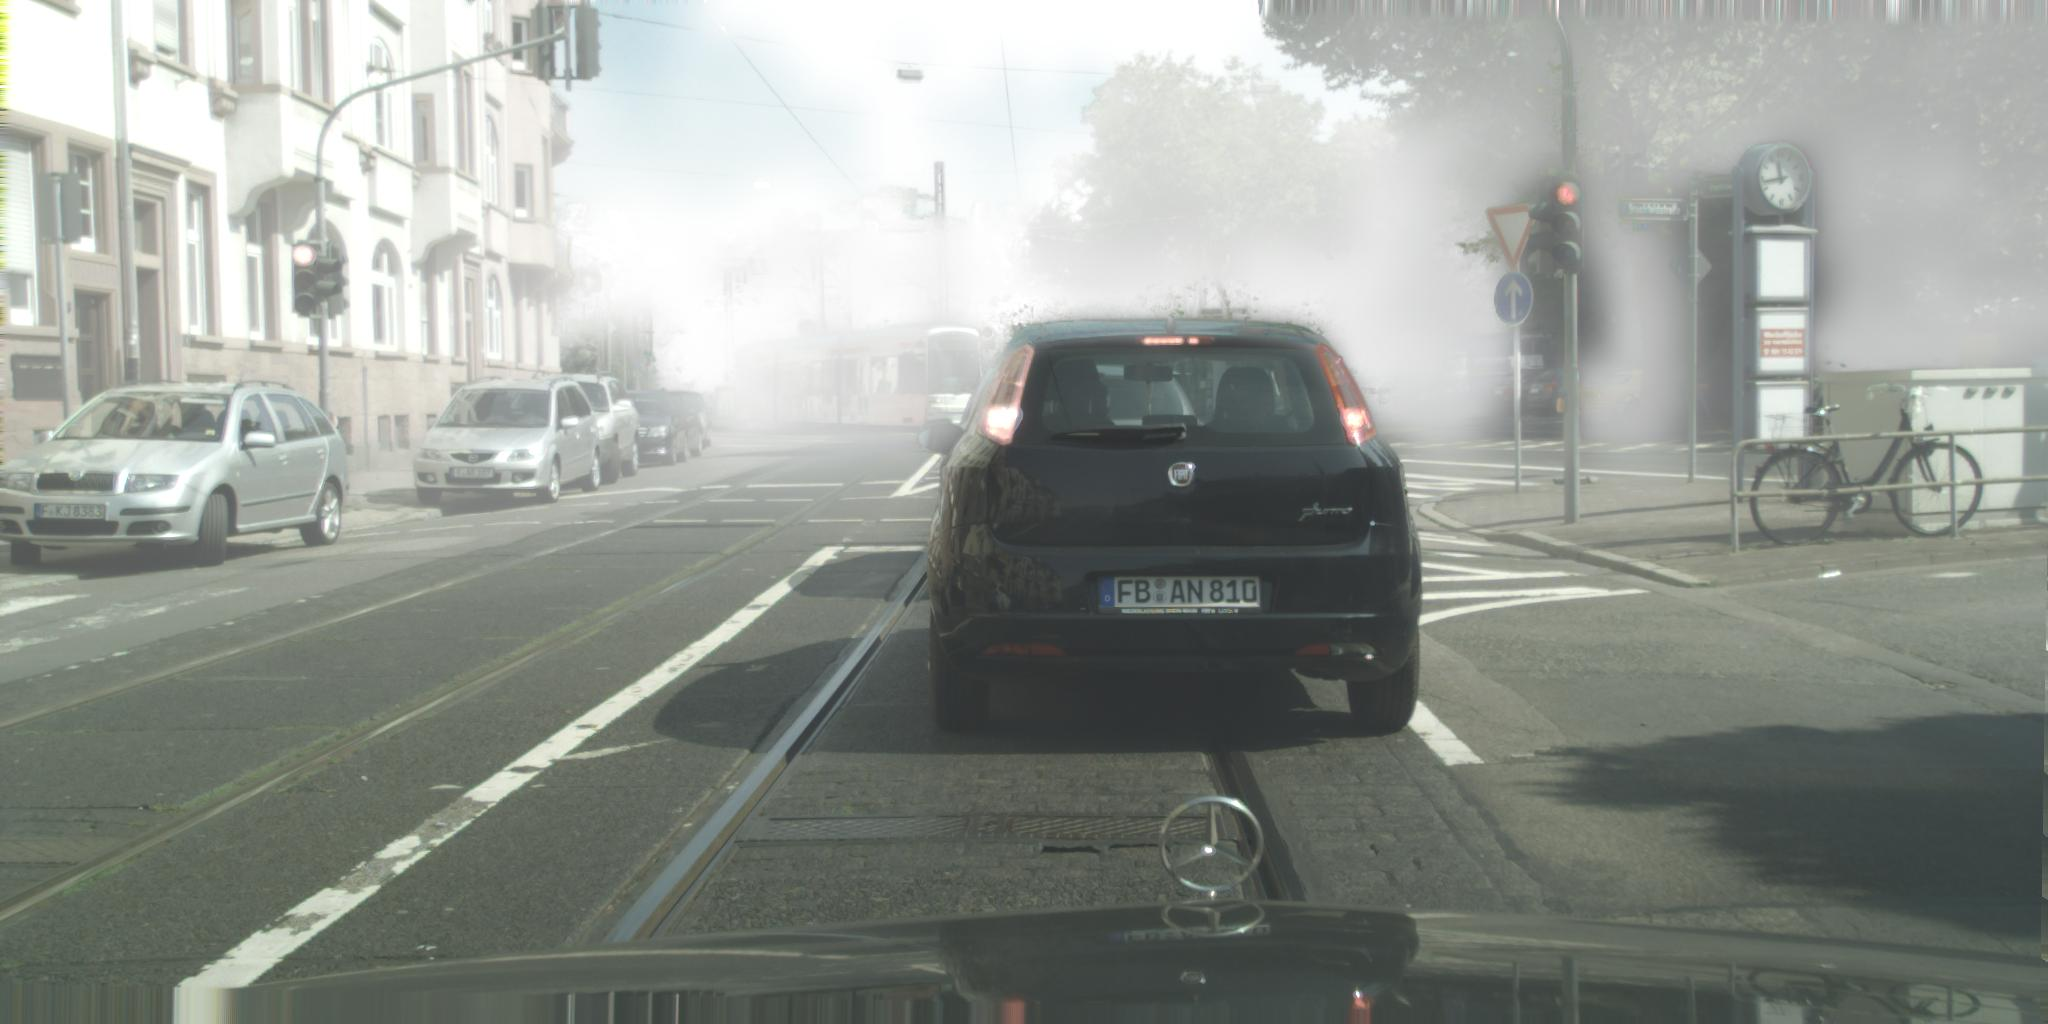bicycle: (1749, 383, 1985, 549)
car: (918, 319, 1425, 737), (1, 379, 351, 569), (923, 363, 1225, 481), (413, 376, 602, 505), (1442, 333, 1553, 417), (562, 374, 643, 487), (619, 391, 690, 468), (1528, 366, 1618, 417), (1575, 367, 1654, 421), (1489, 367, 1550, 418), (660, 392, 704, 458), (1377, 372, 1445, 413), (673, 392, 714, 451), (1384, 376, 1446, 413), (1411, 380, 1455, 415), (1989, 355, 2048, 377)
train: (734, 323, 985, 432)
